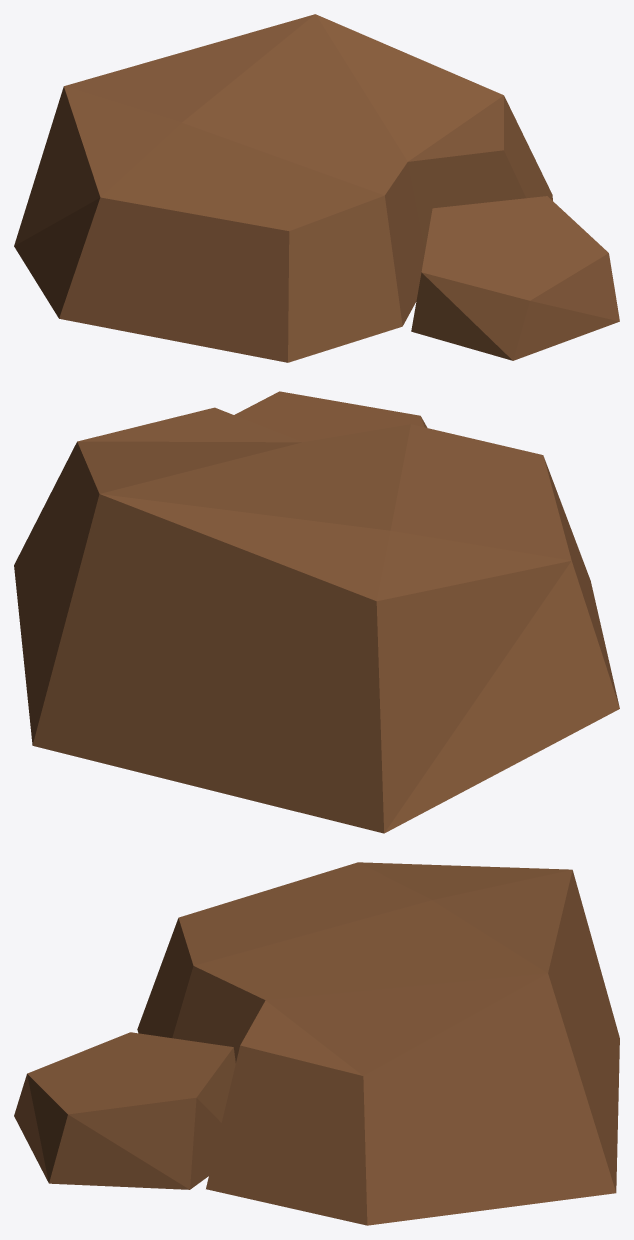
Rendered from stone-flat_orange.glb.
The picture shows the model from 3 angles, top to bottom: view 1: azimuth 30°, elevation 25°; view 2: azimuth 150°, elevation 25°; view 3: azimuth 270°, elevation 25°; orthographic projection. The views are drawn at different scales.
Visible parts, largest first — view 1: stone-flat_orange; view 2: stone-flat_orange; view 3: stone-flat_orange.
Part boxes in pixels (box(x1,y1,x2,y2)): stone-flat_orange: box(14, 14, 619, 362); stone-flat_orange: box(14, 391, 619, 833); stone-flat_orange: box(14, 862, 619, 1225).
Size of the model in its own units: 2.32 by 0.8823 by 2.26.
1 material, 1 textured.
